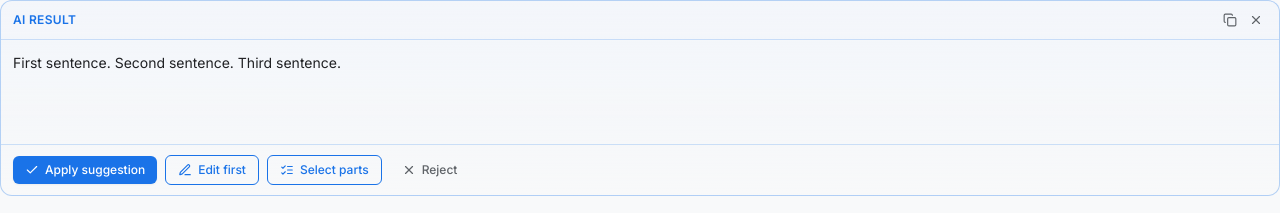
AIResultCard › partial acceptance — navigation › Back button returns to preview mode
Step 1. Click the button "Select parts" → click(324, 170), box top-left (267, 155), bottom-right (382, 185)
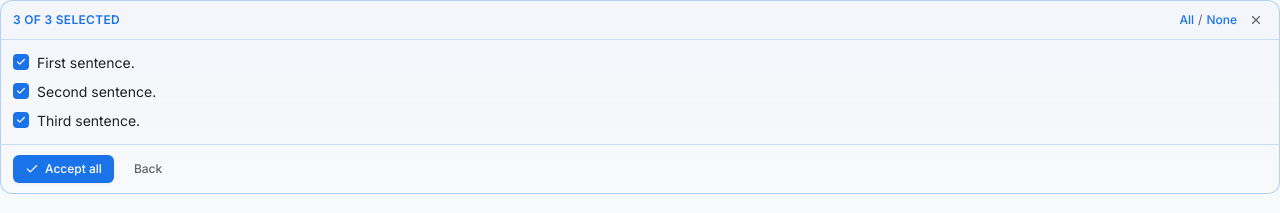
Step 2. Click the button "Back" → click(148, 169), box top-left (122, 155), bottom-right (174, 183)
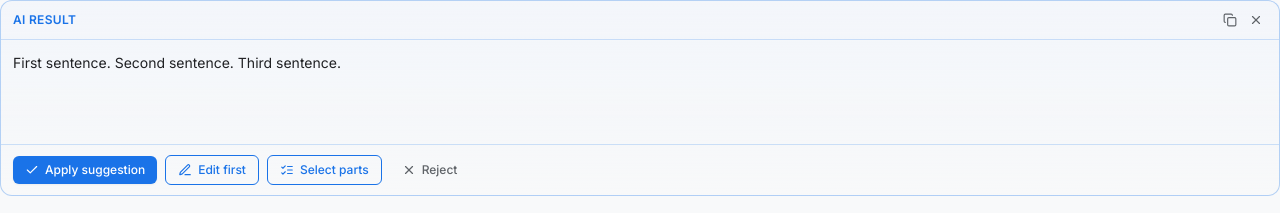
Now the button "Back" is gone
Now the button "Select parts" is shown, box top-left (267, 155), bottom-right (382, 185)
